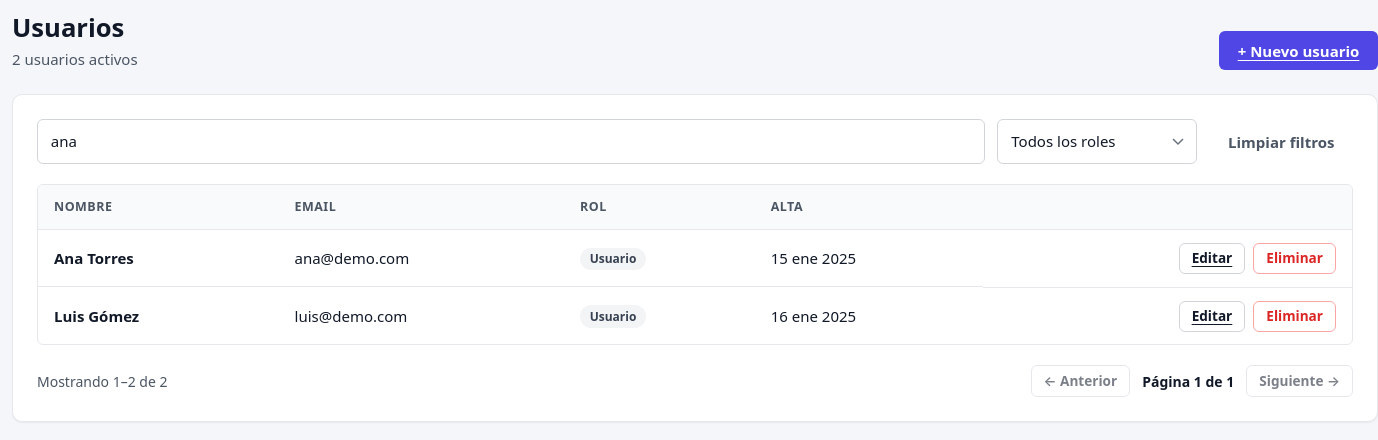
Test case: UsersView › limpiar filtros borra la query y el buscador
Click the button with test id "users-clear-filters" at (1281, 142), box [1210,122,1353,161]
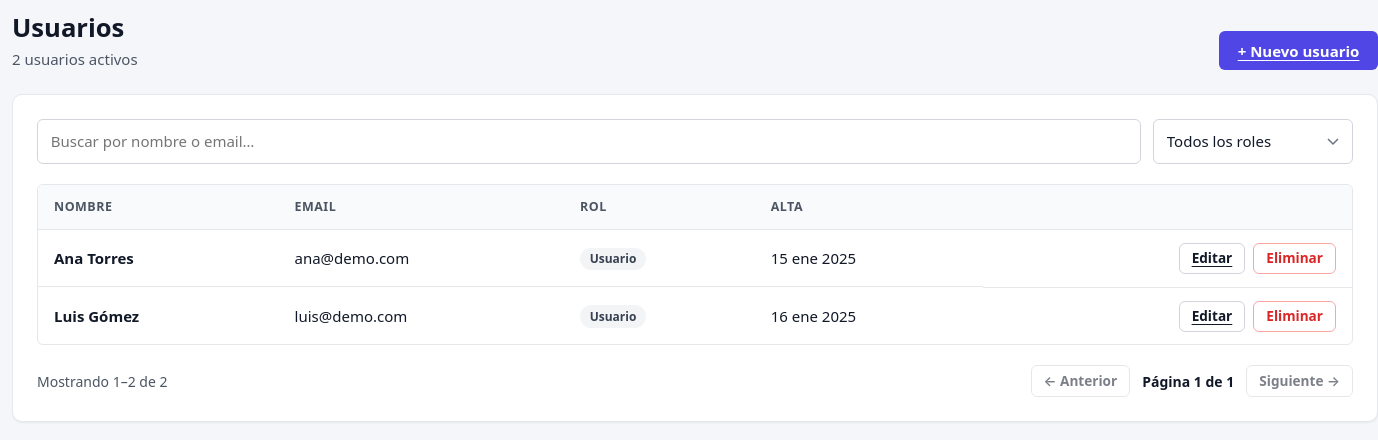
Result: the search field with test id "users-search" is empty at [37,120,1141,164]
